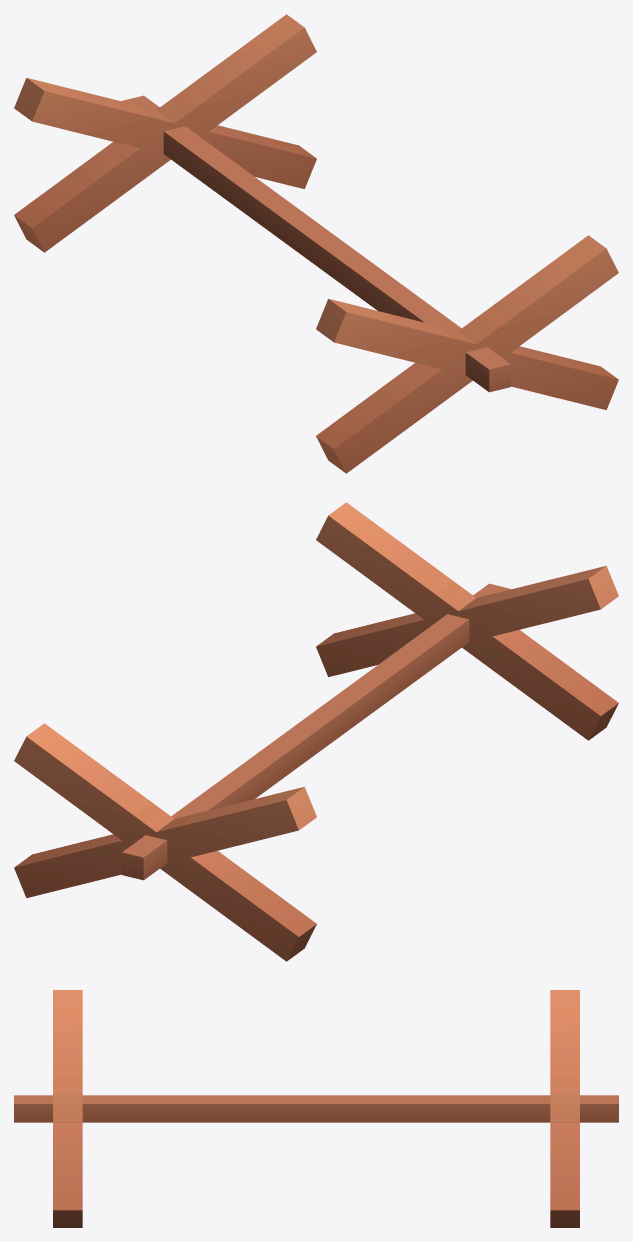
Rendered from bedroll-frame.glb.
3 views of the same model, one above another, from view 1: azimuth 30°, elevation 25°; view 2: azimuth 150°, elevation 25°; view 3: azimuth 270°, elevation 25° (orthographic). The views are drawn at different scales.
Parts seen in each view (by area): view 1: bedroll-frame; view 2: bedroll-frame; view 3: bedroll-frame.
Boxes of the visible parts, bbox=[...] form: bedroll-frame: bbox=[14, 14, 618, 473]; bedroll-frame: bbox=[14, 502, 618, 961]; bedroll-frame: bbox=[14, 990, 618, 1227].
Bounding box in the file's own units: 0.2722 × 0.1477 × 0.6076.
Materials: 1 (1 with a texture image).
